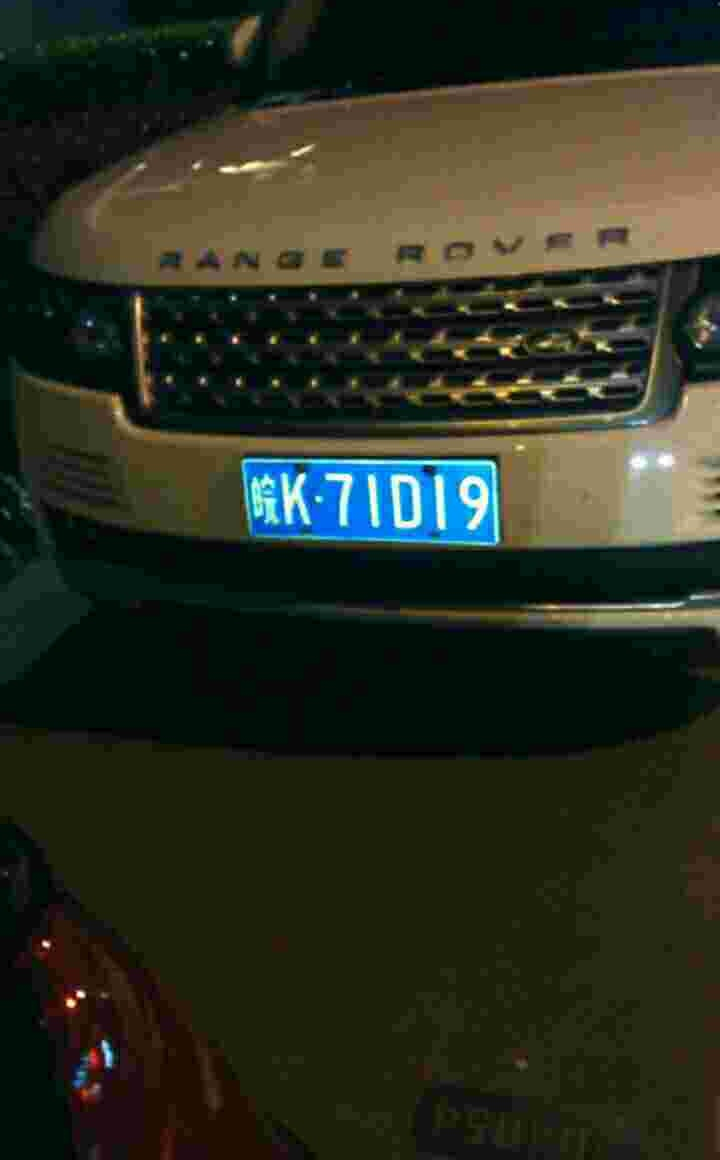license_plate: (251, 464, 502, 547)
